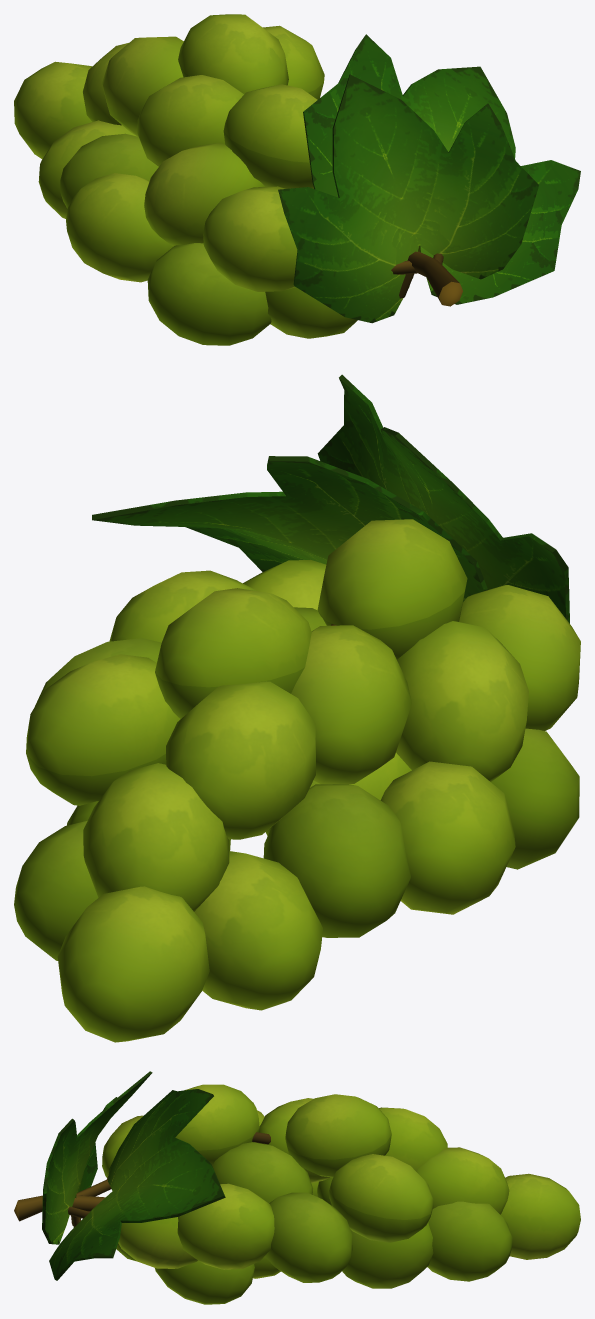
File: Grapes_Green.fbx
3 renders of one model, top to bottom at view 1: azimuth 30°, elevation 25°; view 2: azimuth 150°, elevation 25°; view 3: azimuth 270°, elevation 25°, orthographic. The views are drawn at different scales.
Visible parts, largest first — view 1: Grapes_Green; view 2: Grapes_Green; view 3: Grapes_Green.
Part boxes in pixels (x1,y1,x2,y2): Grapes_Green: (14, 14, 580, 345); Grapes_Green: (14, 374, 580, 1042); Grapes_Green: (14, 1071, 580, 1304).
Bounding box in the file's own units: 47 × 30.89 × 75.13.
